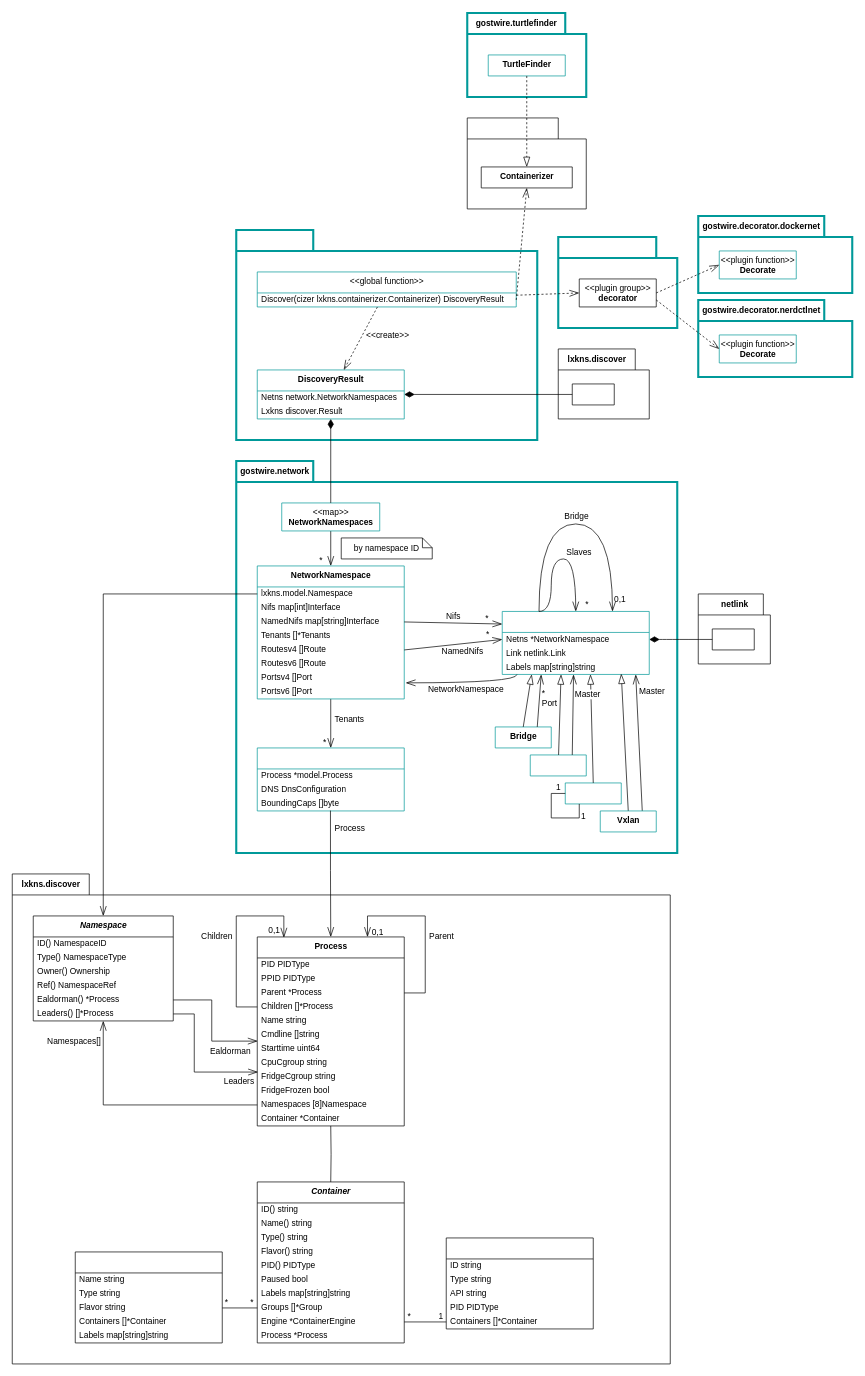
This 865x1376 diagram has some shape labels left out. Here are the shapes that lost their labels. From the top down, the box of each, then its label:
(467, 117, 586, 209): lxkns.containerizer
(557, 236, 678, 329): gostwire.decorator
(235, 229, 538, 441): gostwire
(572, 383, 614, 405): Result
(502, 611, 649, 674): Interface
(712, 628, 754, 650): Link
(257, 747, 404, 811): Tenant
(530, 754, 586, 776): Macvlan
(565, 782, 621, 804): Veth
(75, 1251, 222, 1343): Group
(446, 1237, 593, 1329): ContainerEngine
